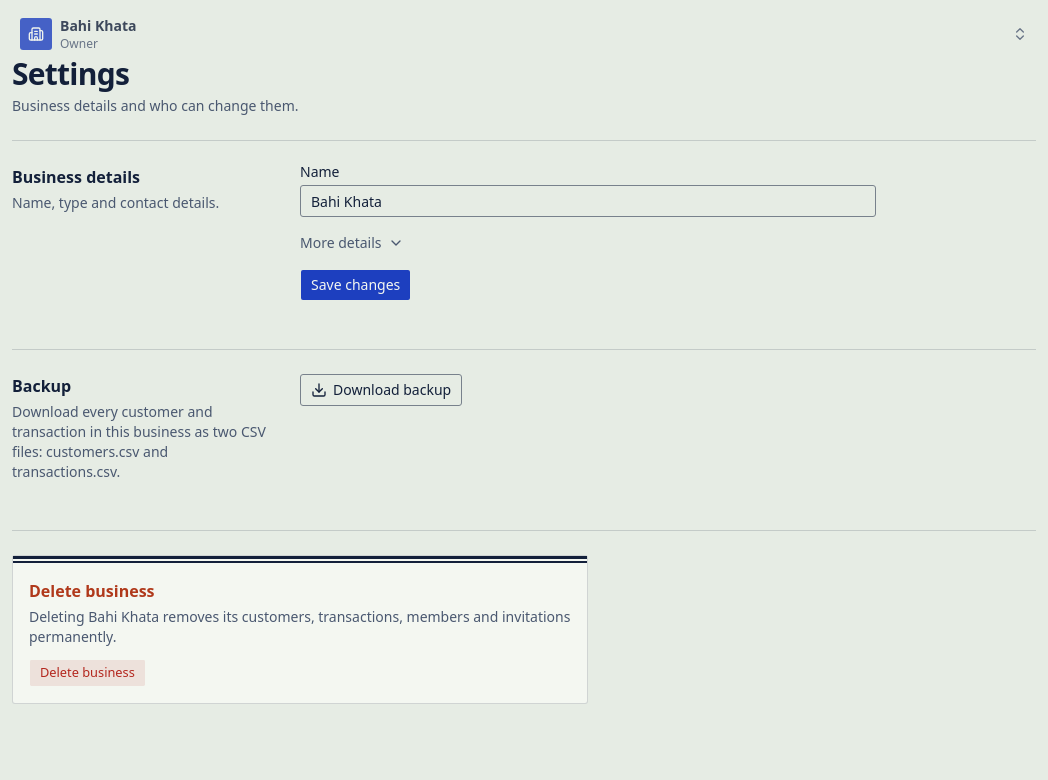
Scenario: S-18 business settings page › updates the sidebar business name immediately after a rename
expect the text "Bahi Khata" is shown: met, box [60, 16, 136, 35]
Replace the text in the field labelled "Name" with "Rahim and Sons". click: (588, 201)
box: [300, 185, 876, 217]
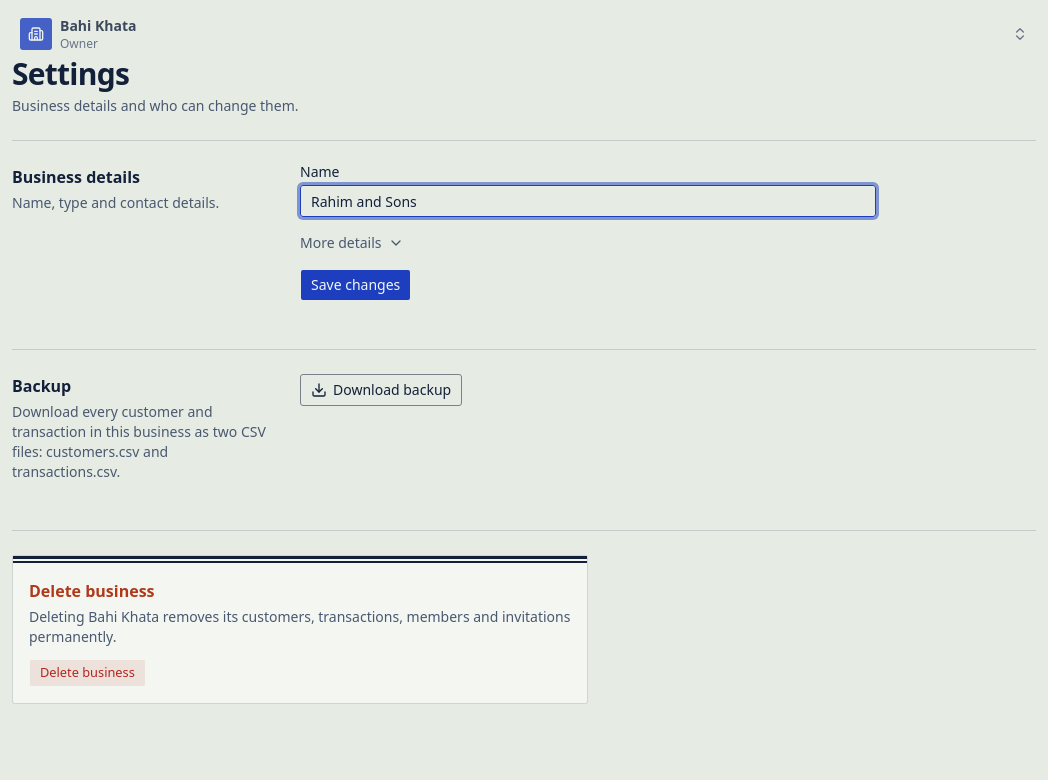
Click the button "Save changes". click: (356, 285)
box: [300, 269, 411, 301]
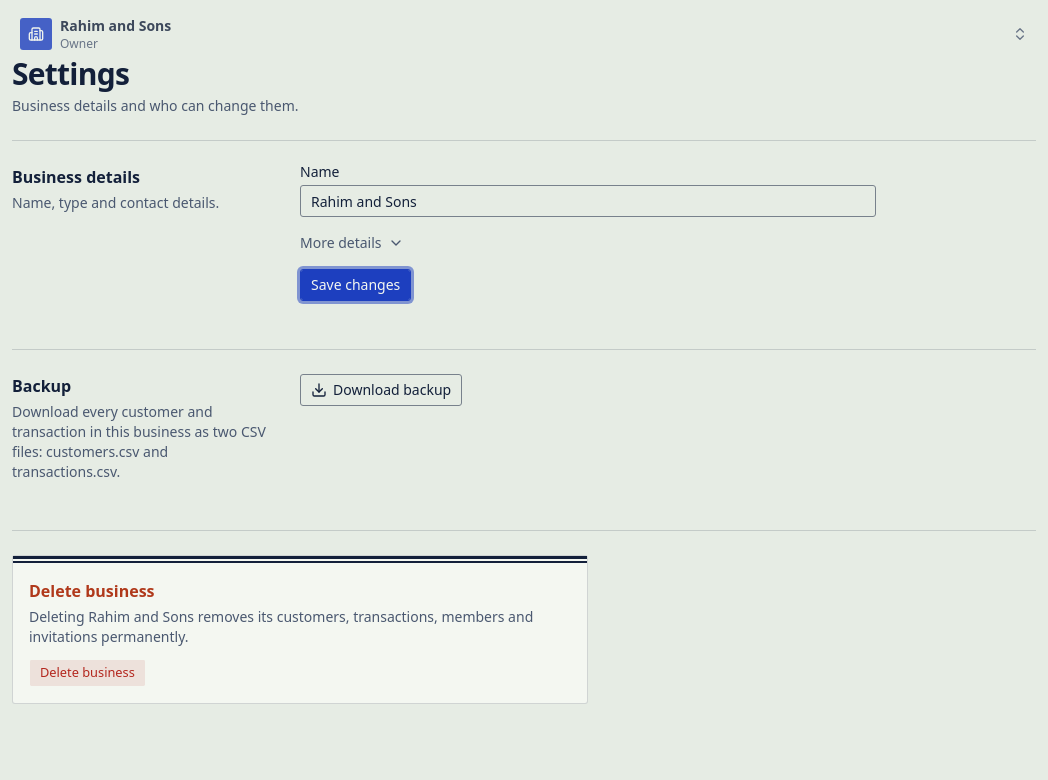
expect the text "Rahim and Sons" is shown: met, box [60, 16, 171, 35]
